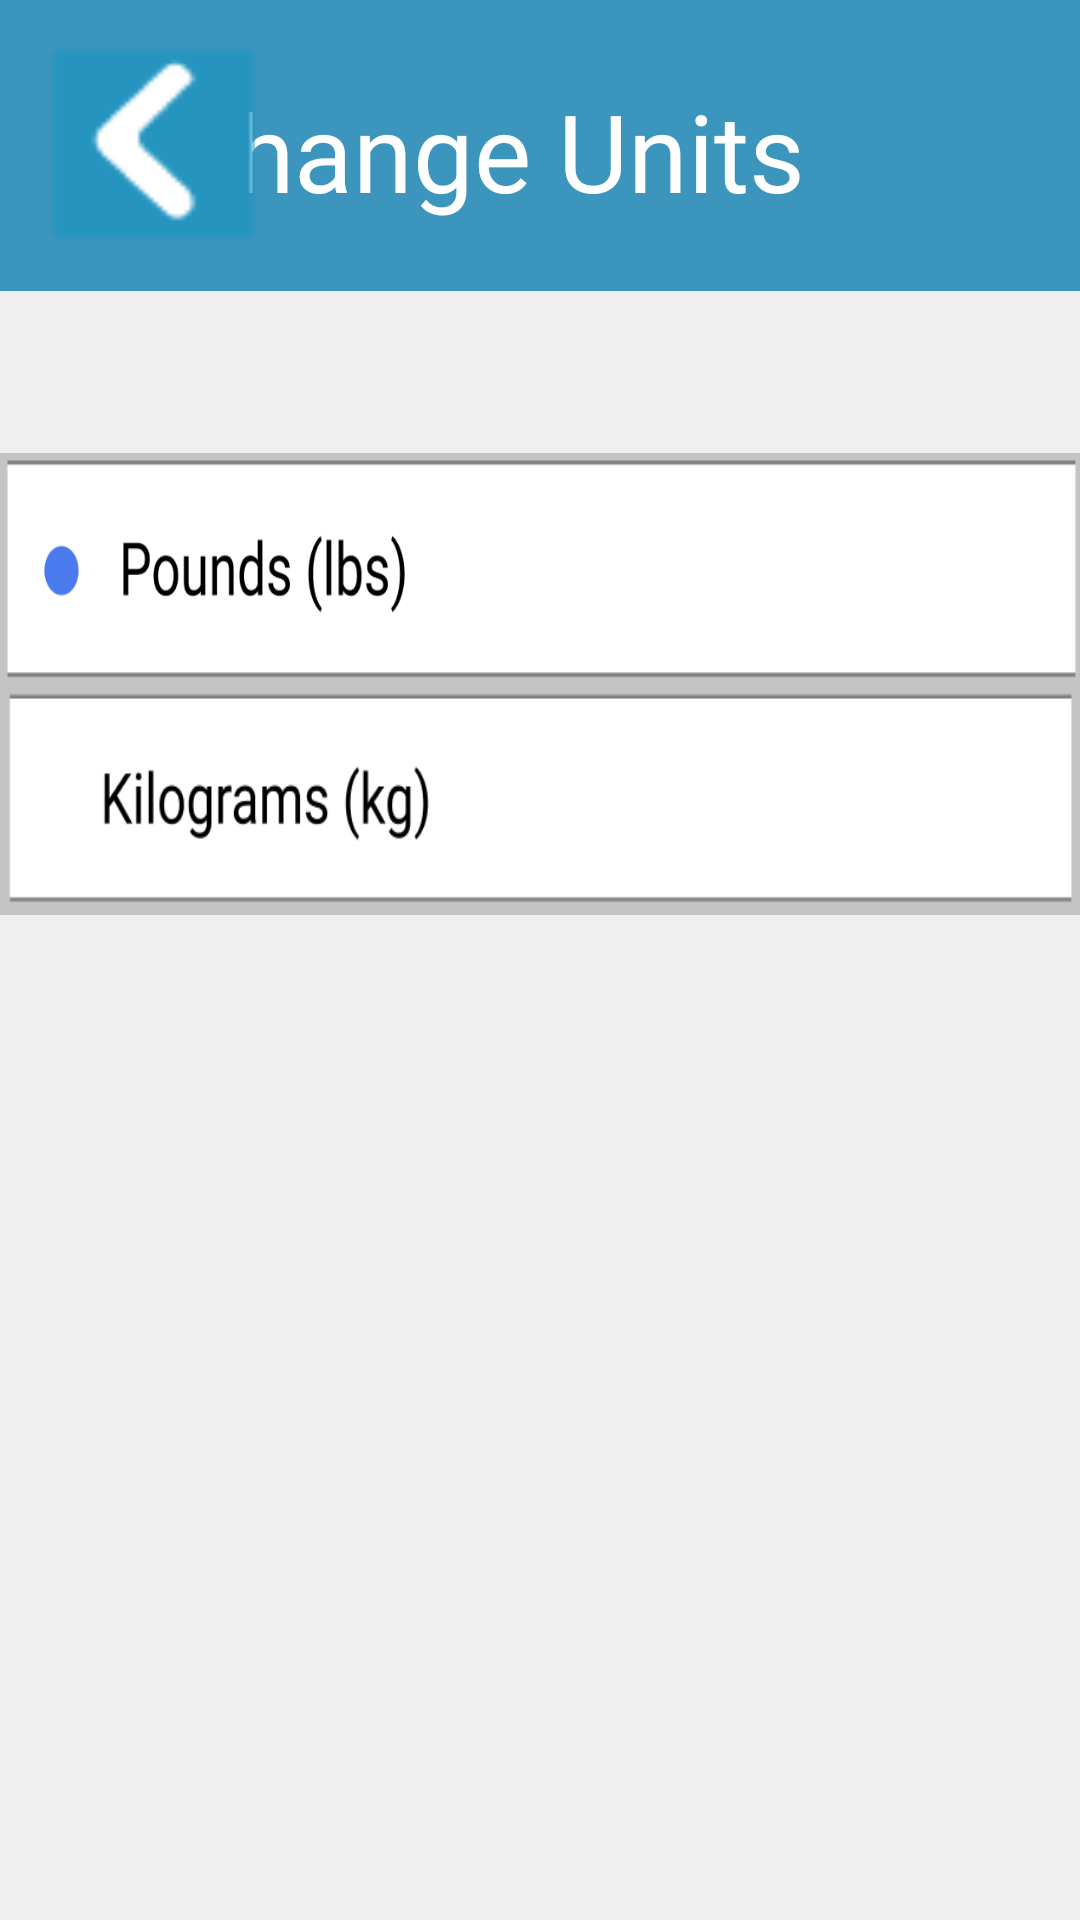

Icon bounding boxes for this 1080×1920 phone screenshot, format (x1, y1, x2, y2):
backarrow: (51, 51, 255, 237)
